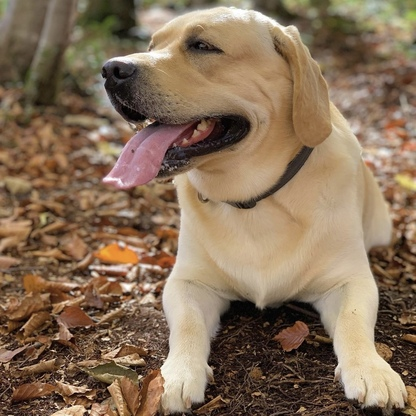labrado: (96, 4, 412, 416)
